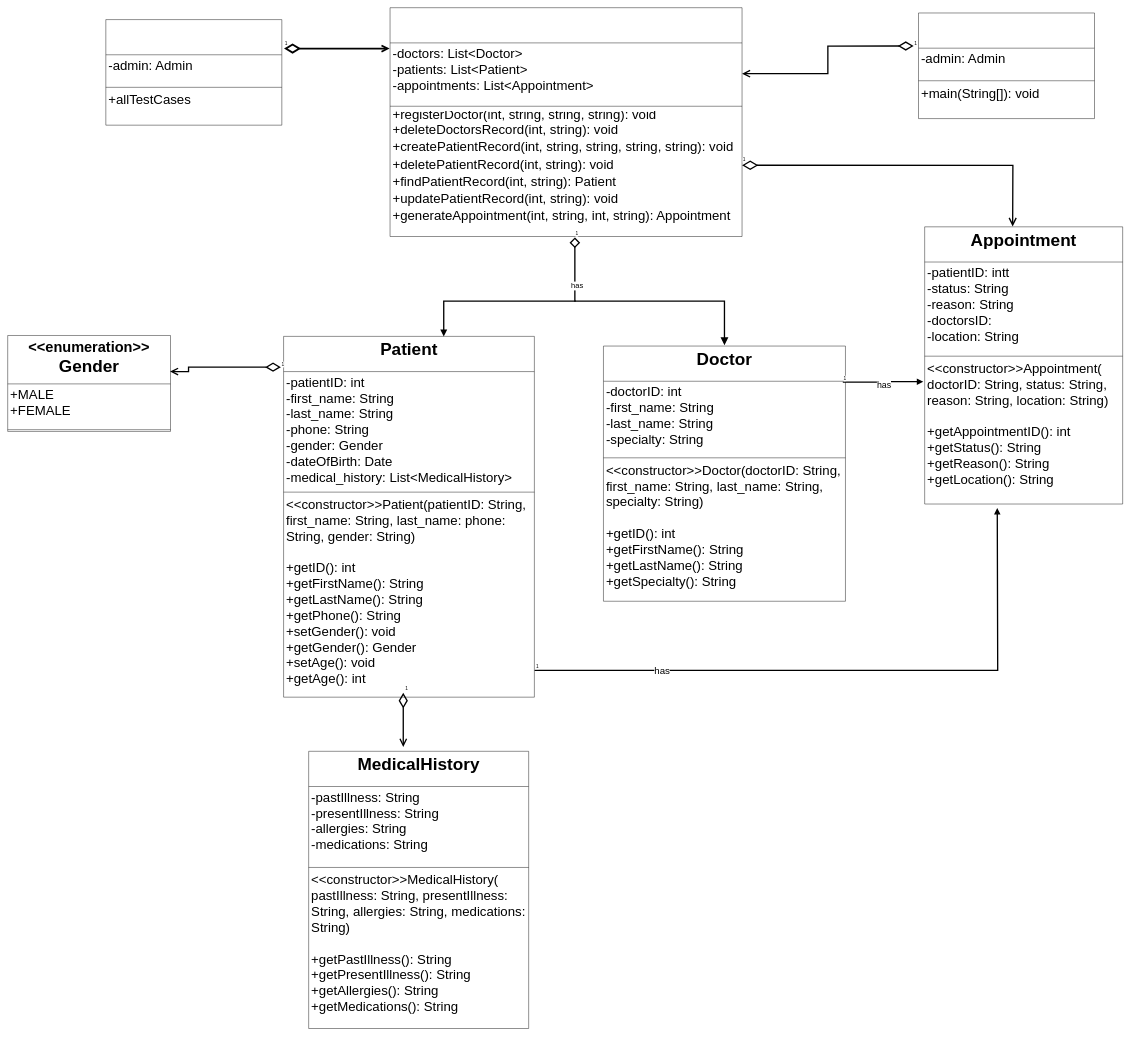
The diagram is 1130 pixels wide and 1038 high, and some of its shapes have lost their labels. The box of each missing label's shape, as (x1, y1, x2, y2) in pixels:
Admin: (390, 7, 742, 236)
AdminTest: (105, 19, 282, 125)
MainApplication: (918, 13, 1094, 119)
